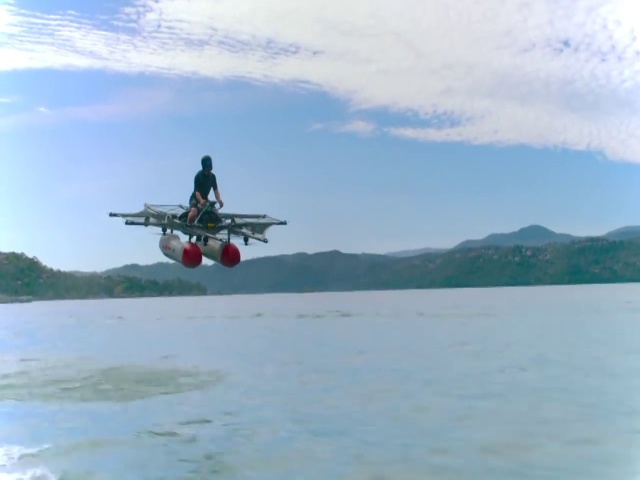drone: (107, 202, 289, 269)
